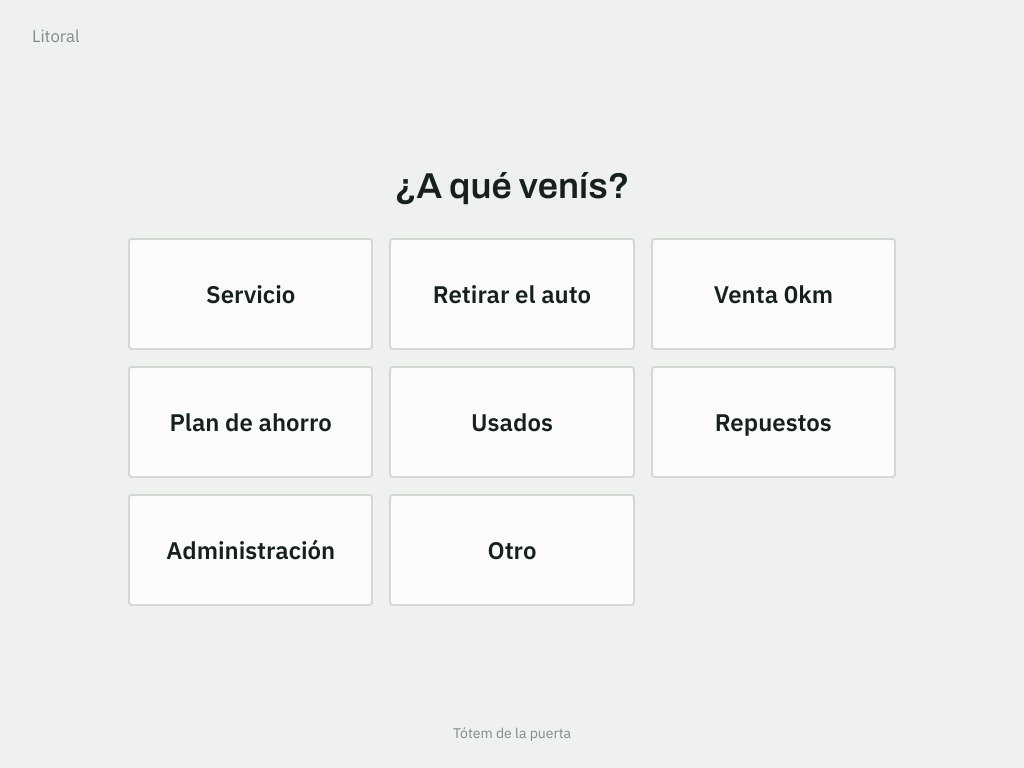
el tótem › sin red da el número igual, lo guarda, y lo manda cuando vuelve
The image size is (1024, 768).
Click the button "Plan de ahorro". click: (251, 422)
box: 128,366 -> 373,478
(page scrolled)
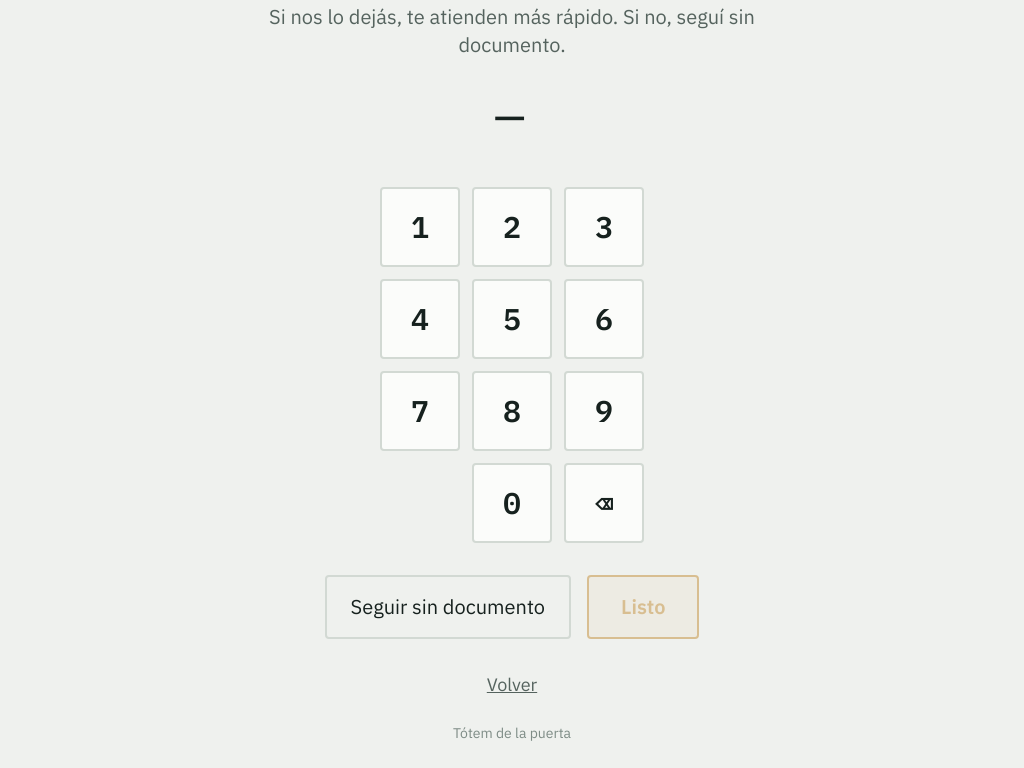
Click the button "Seguir sin documento". click: (448, 607)
box: 324,575 -> 571,639
(page scrolled)
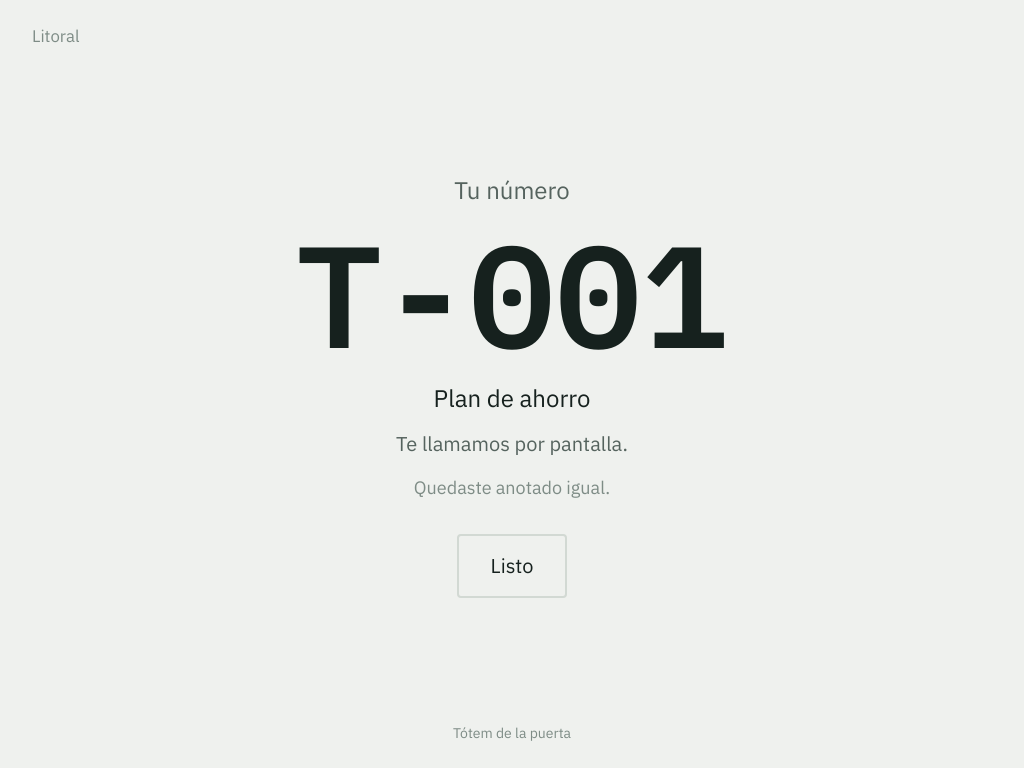
Expected: the text "T-001" is shown, 296,222 -> 728,366
Expected: the text "Quedaste anotado igual." is shown, 414,474 -> 610,502
